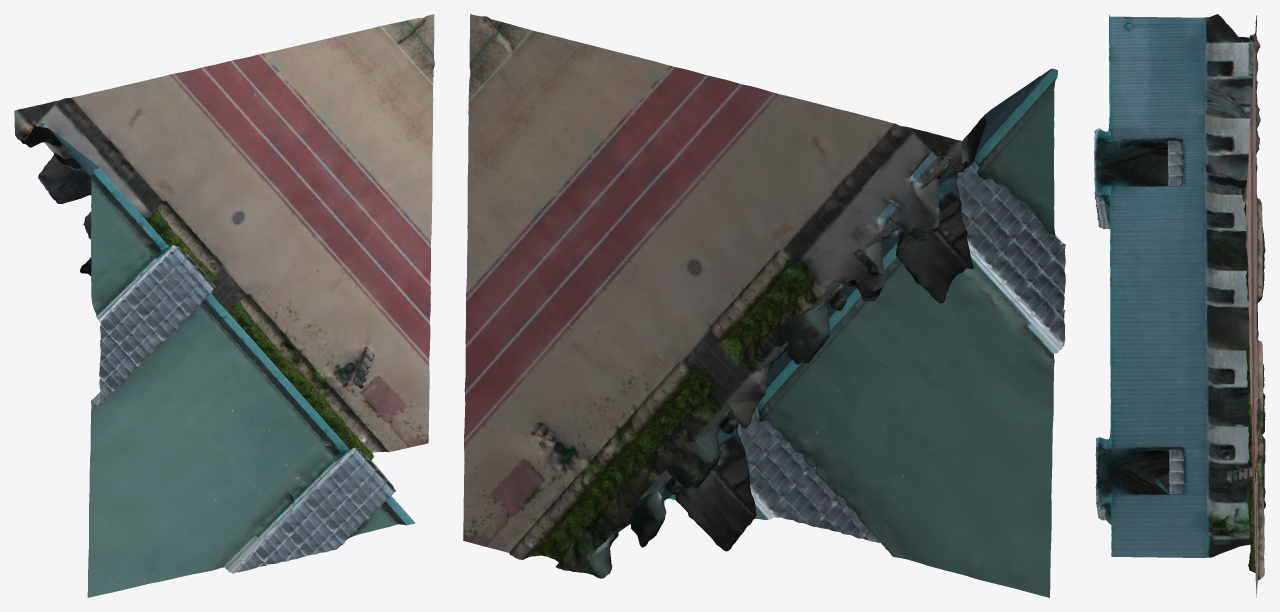
Rendered from Tile_+019_+009.fbx.
The picture shows the model from 3 angles, left to right: view 1: azimuth 30°, elevation 25°; view 2: azimuth 150°, elevation 25°; view 3: azimuth 270°, elevation 25°; orthographic projection. The views are drawn at different scales.
Visible parts, largest first — view 1: DefaultName; view 2: DefaultName; view 3: DefaultName.
Boxes of the visible parts, x1,y1,x2,y2 form: DefaultName: (14,14,434,597); DefaultName: (463,14,1065,597); DefaultName: (1094,14,1265,597).
Size of the model in its own units: 22.54 by 22.54 by 8.81.
